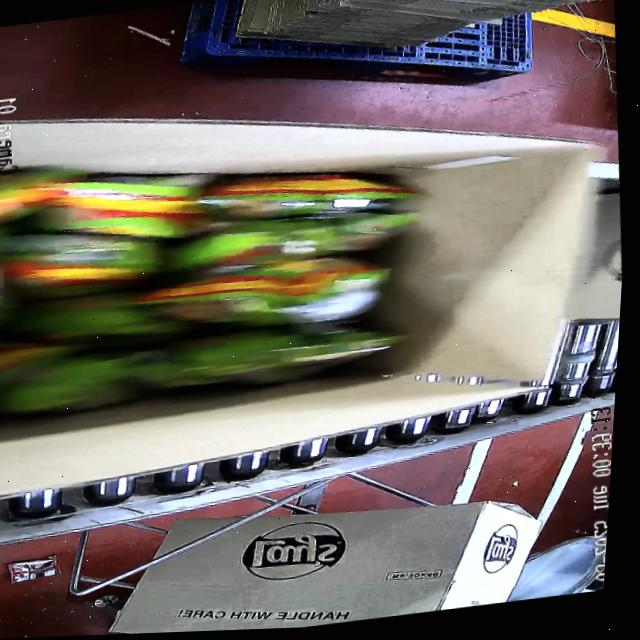YOGURT_HERB: (0, 120, 446, 423)
